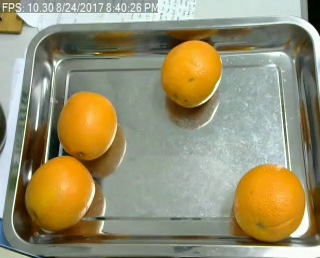Orange: (232, 164, 305, 241), (25, 156, 95, 230), (163, 40, 223, 107), (58, 90, 116, 159)
